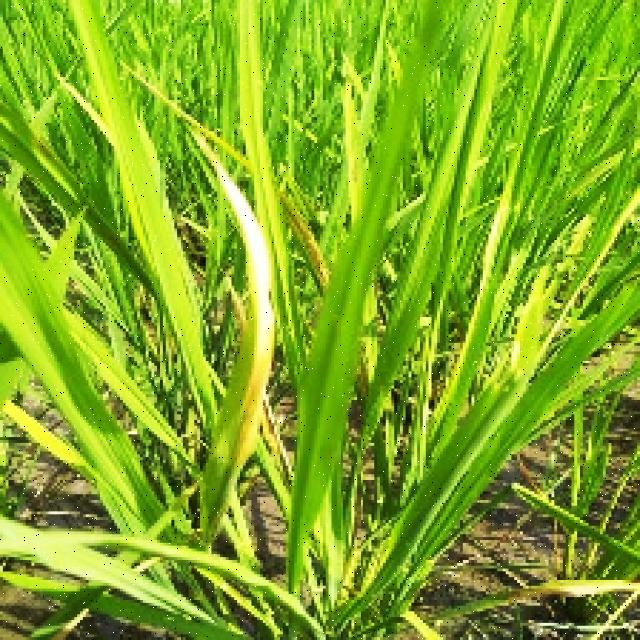unhealth: (193, 140, 281, 548)
